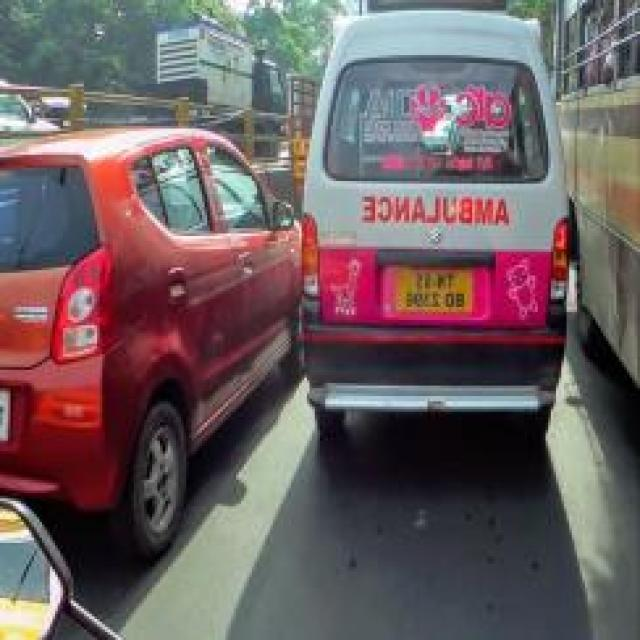Ambulance: (0, 0, 637, 637), (0, 120, 304, 561), (294, 0, 572, 435)
